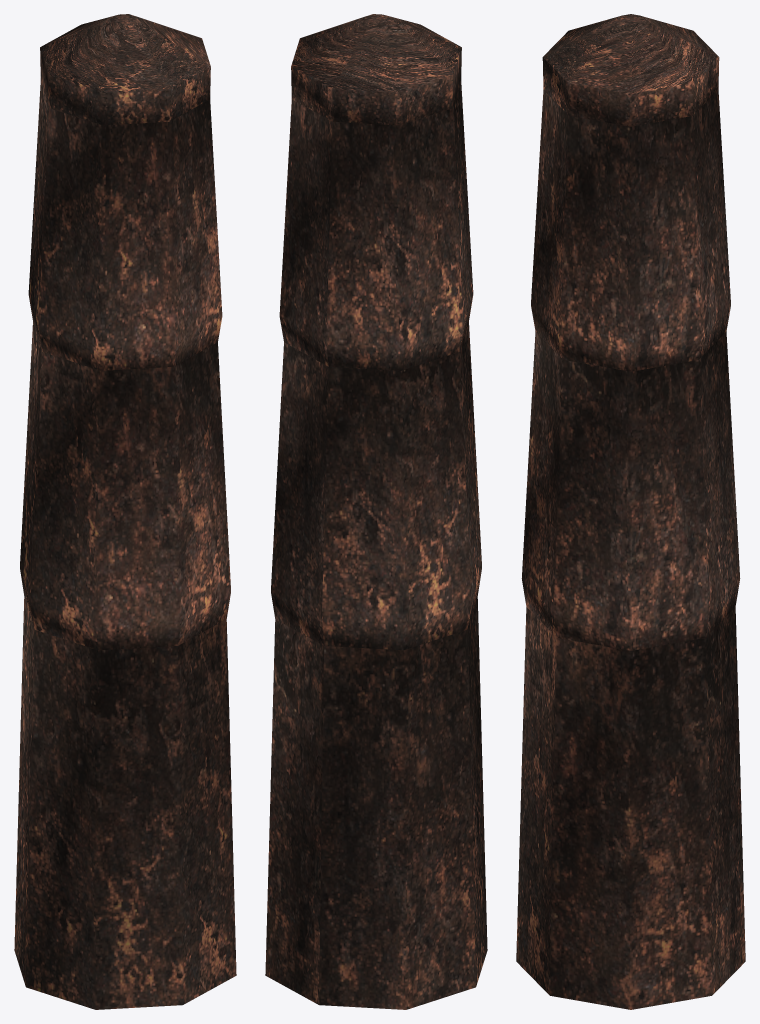
Rendered from metal column_LOD1.fbx.
3 renders of one model, left to right at view 1: azimuth 30°, elevation 25°; view 2: azimuth 150°, elevation 25°; view 3: azimuth 270°, elevation 25°, orthographic.
Visible parts, largest first — view 1: column_LOD1; view 2: column_LOD1; view 3: column_LOD1.
Part boxes in pixels (bbox=[...]): column_LOD1: bbox=[14, 14, 236, 1009]; column_LOD1: bbox=[265, 14, 487, 1009]; column_LOD1: bbox=[516, 14, 745, 1009].
Size of the model in its own units: 0.3266 by 1.48 by 0.3266.
